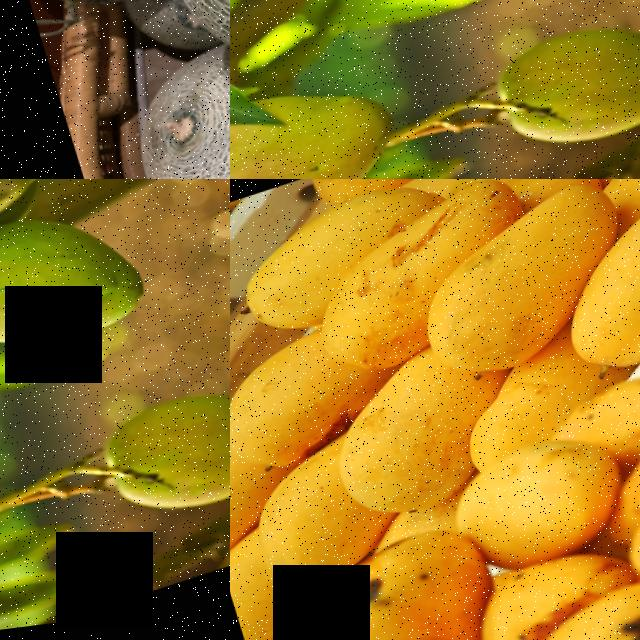mango: (391, 183, 640, 391), (306, 351, 474, 545), (471, 10, 640, 179), (0, 199, 151, 380), (78, 376, 230, 546), (533, 192, 640, 398), (294, 244, 435, 390), (230, 97, 401, 179), (594, 451, 640, 621)
melon: (7, 0, 191, 136)
